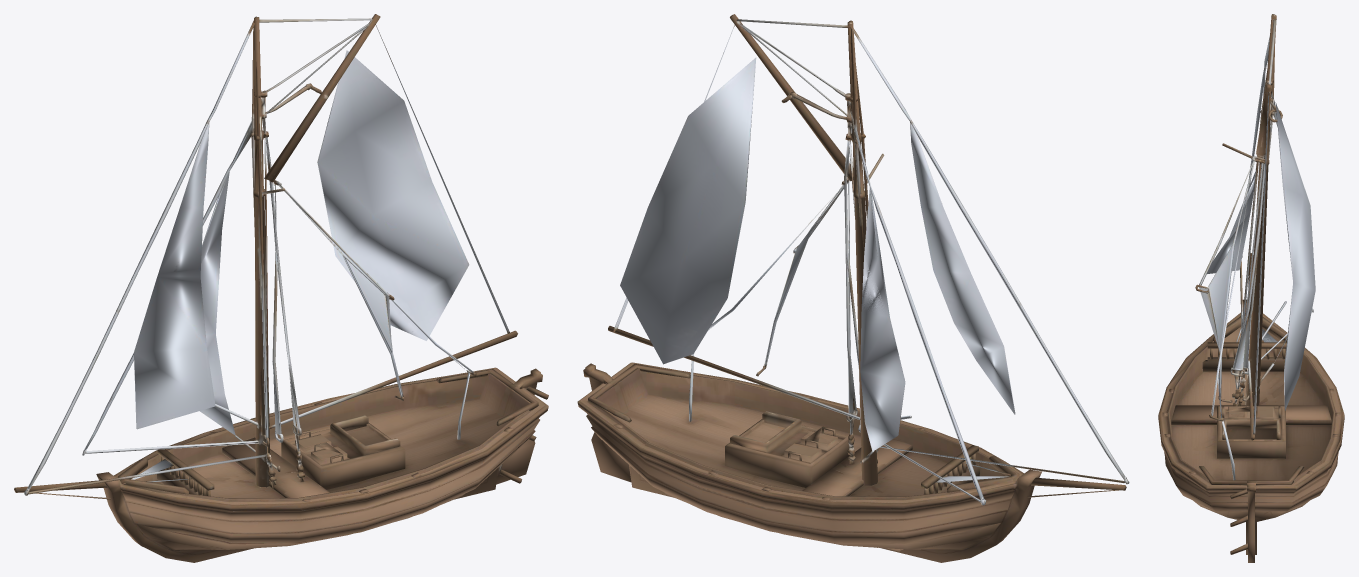
Rendered from selected.glb.
The picture shows the model from 3 angles, left to right: view 1: azimuth 30°, elevation 25°; view 2: azimuth 150°, elevation 25°; view 3: azimuth 270°, elevation 25°; orthographic projection. The views are drawn at different scales.
Parts seen in each view (by area): view 1: tripo_node_8329f233-fa49-464e-9daf-ab0a62f1662a; view 2: tripo_node_8329f233-fa49-464e-9daf-ab0a62f1662a; view 3: tripo_node_8329f233-fa49-464e-9daf-ab0a62f1662a.
Boxes of the visible parts, x1,y1,x2,y2 form: tripo_node_8329f233-fa49-464e-9daf-ab0a62f1662a: (14, 14, 548, 562); tripo_node_8329f233-fa49-464e-9daf-ab0a62f1662a: (577, 14, 1129, 562); tripo_node_8329f233-fa49-464e-9daf-ab0a62f1662a: (1158, 14, 1344, 562).
Bounding box in the file's own units: 0.998 × 0.9355 × 0.3535.
1 material, 1 textured.
